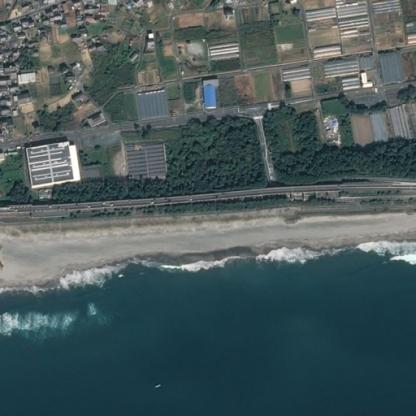ship: (144, 376, 170, 393)
